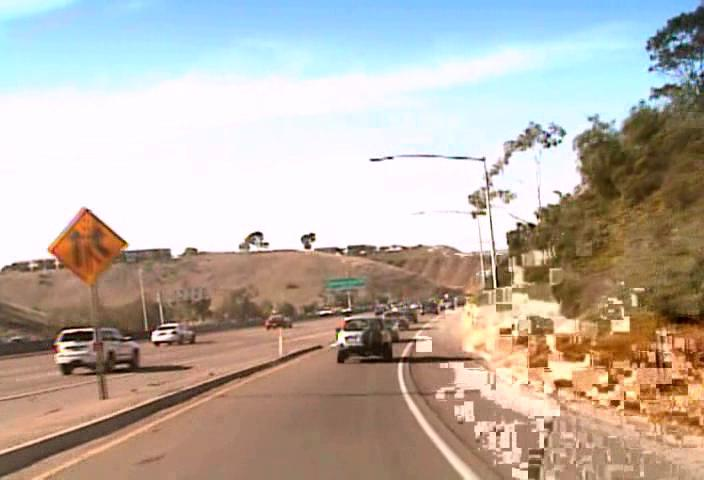addedLane: (47, 207, 127, 284)
